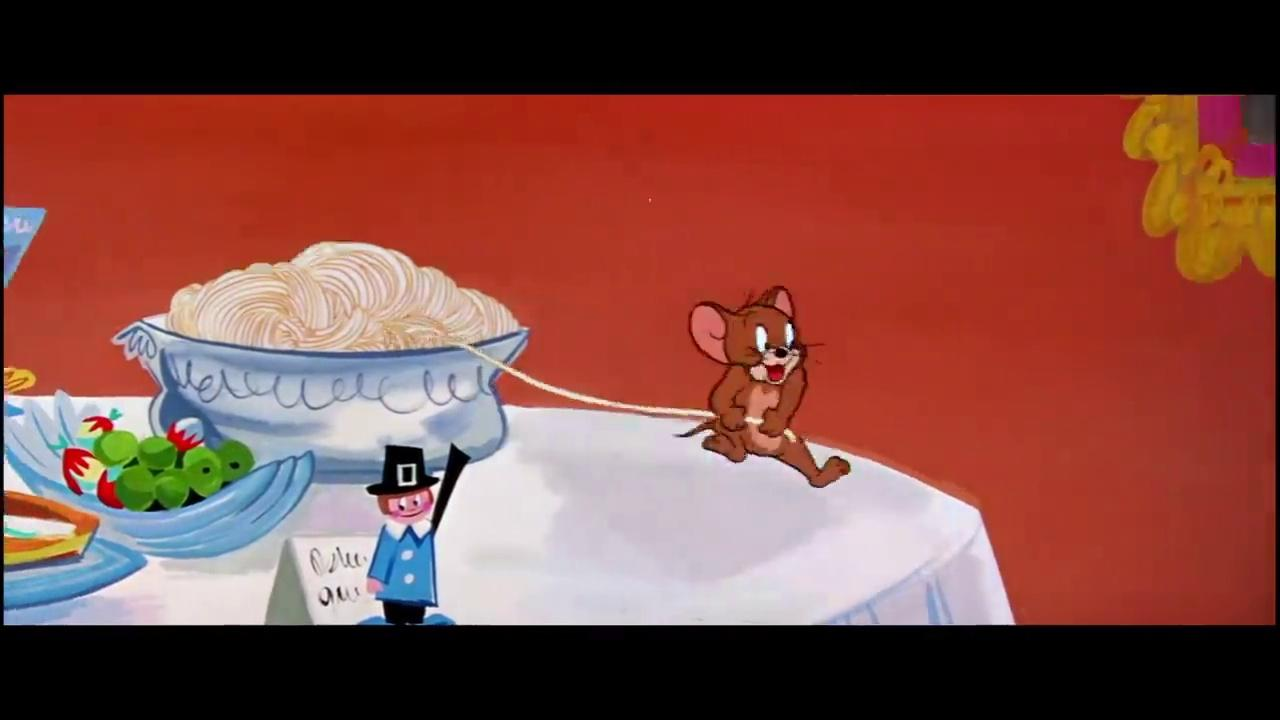Jerry: (668, 283, 853, 489)
